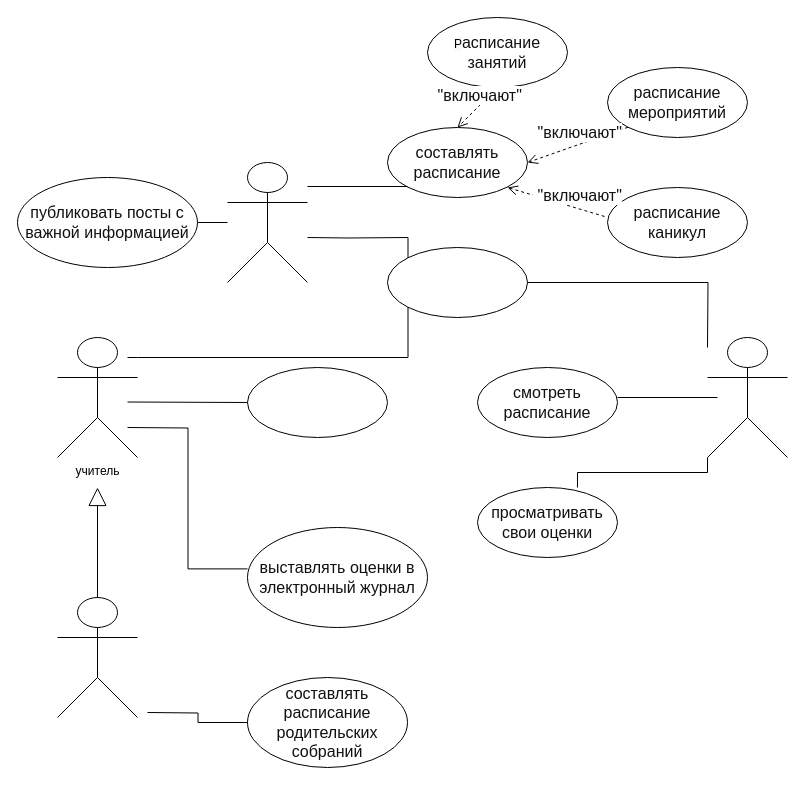
Image size: 805x785. Some labels were removed from this diagram. Here are the shapes that lost their labels. From the top down, the centre of each, then its label:
At (267,222): "зам директора".
At (457,282): "отправлять сообщения".
At (317,402): "размещать материалы для уроков".
At (747,397): "ученик".
At (97,657): "классный руководитель".
